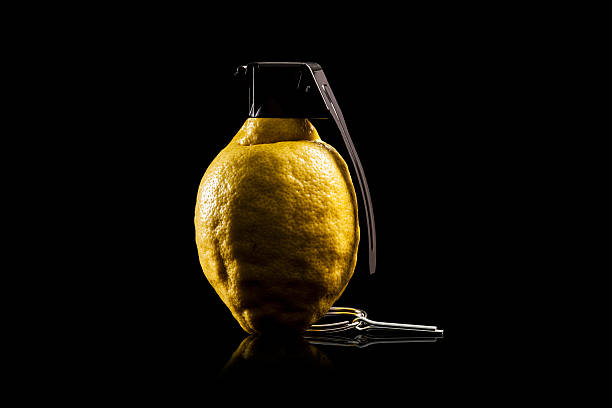e1: (190, 59, 447, 341)
